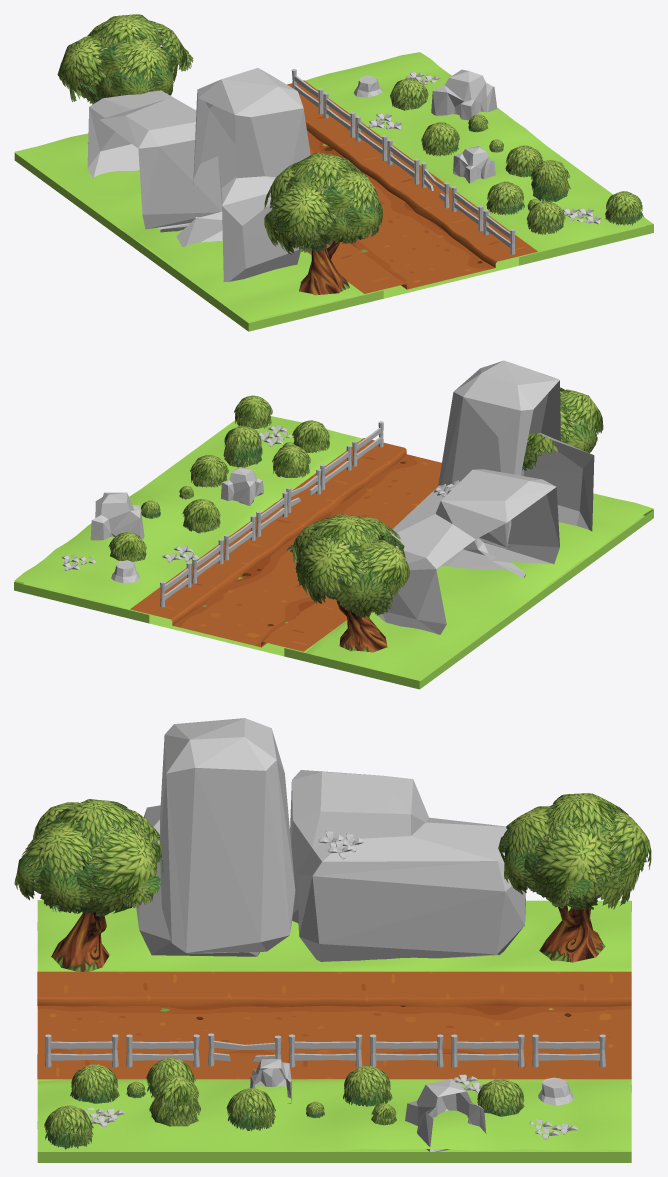
File: Forestchunk2.fbx
3 renders of one model, top to bottom at view 1: azimuth 30°, elevation 25°; view 2: azimuth 150°, elevation 25°; view 3: azimuth 270°, elevation 25°, orthographic. The views are drawn at different scales.
Parts seen in each view (by area): view 1: Rock4.001, road_I_2.048, road_I_2.051, Rock4, BOSQUELOWPOLY.040, BOSQUELOWPOLY.012, Plane.024, road_I_2.045, Cube.022, WoodFence2.001, Rock5.003, road_I_2.046 (+10 smaller); view 2: road_I_2.048, Rock4, Rock4.001, road_I_2.051, Plane.024, BOSQUELOWPOLY.012, road_I_2.045, Cube.022, WoodFence2.001, BOSQUELOWPOLY.040, road_I_2.046, Rock5.003 (+10 smaller); view 3: Rock4, Rock4.001, road_I_2.048, Plane.024, road_I_2.051, road_I_2.046, BOSQUELOWPOLY.040, BOSQUELOWPOLY.012, road_I_2.045, WoodFence2.001, Cube.022, road_I_2.040 (+10 smaller).
Part boxes in pixels (x1=…): Rock4.001: x1=176, y1=68, x2=310, y2=281; road_I_2.048: x1=305, y1=52, x2=653, y2=253; road_I_2.051: x1=14, y1=133, x2=364, y2=321; Rock4: x1=87, y1=90, x2=222, y2=232; BOSQUELOWPOLY.040: x1=264, y1=152, x2=382, y2=295; BOSQUELOWPOLY.012: x1=57, y1=14, x2=193, y2=143; Plane.024: x1=307, y1=130, x2=494, y2=289; road_I_2.045: x1=287, y1=80, x2=537, y2=261; Cube.022: x1=14, y1=147, x2=653, y2=331; WoodFence2.001: x1=291, y1=69, x2=515, y2=254; Rock5.003: x1=431, y1=69, x2=497, y2=120; road_I_2.046: x1=308, y1=241, x2=404, y2=293; road_I_2.048: x1=14, y1=416, x2=362, y2=609; Rock4: x1=374, y1=469, x2=559, y2=634; Rock4.001: x1=438, y1=360, x2=594, y2=548; road_I_2.051: x1=306, y1=493, x2=653, y2=680; Plane.024: x1=173, y1=454, x2=441, y2=647; BOSQUELOWPOLY.012: x1=286, y1=514, x2=409, y2=652; road_I_2.045: x1=130, y1=438, x2=404, y2=619; Cube.022: x1=14, y1=509, x2=653, y2=689; WoodFence2.001: x1=160, y1=421, x2=383, y2=607; BOSQUELOWPOLY.040: x1=522, y1=387, x2=603, y2=470; road_I_2.046: x1=263, y1=595, x2=347, y2=651; Rock5.003: x1=90, y1=492, x2=144, y2=540; Rock4: x1=290, y1=770, x2=525, y2=961; Rock4.001: x1=136, y1=718, x2=295, y2=956; road_I_2.048: x1=37, y1=1079, x2=631, y2=1151; Plane.024: x1=37, y1=1005, x2=631, y2=1053; road_I_2.051: x1=37, y1=899, x2=631, y2=971; road_I_2.046: x1=37, y1=971, x2=631, y2=998; BOSQUELOWPOLY.040: x1=14, y1=799, x2=163, y2=971; BOSQUELOWPOLY.012: x1=498, y1=793, x2=651, y2=962; road_I_2.045: x1=37, y1=1052, x2=631, y2=1079; WoodFence2.001: x1=45, y1=1033, x2=605, y2=1067; Cube.022: x1=37, y1=901, x2=631, y2=1162; road_I_2.040: x1=37, y1=997, x2=631, y2=1007.
Size of the model in its own units: 10160 by 4302 by 10774.
